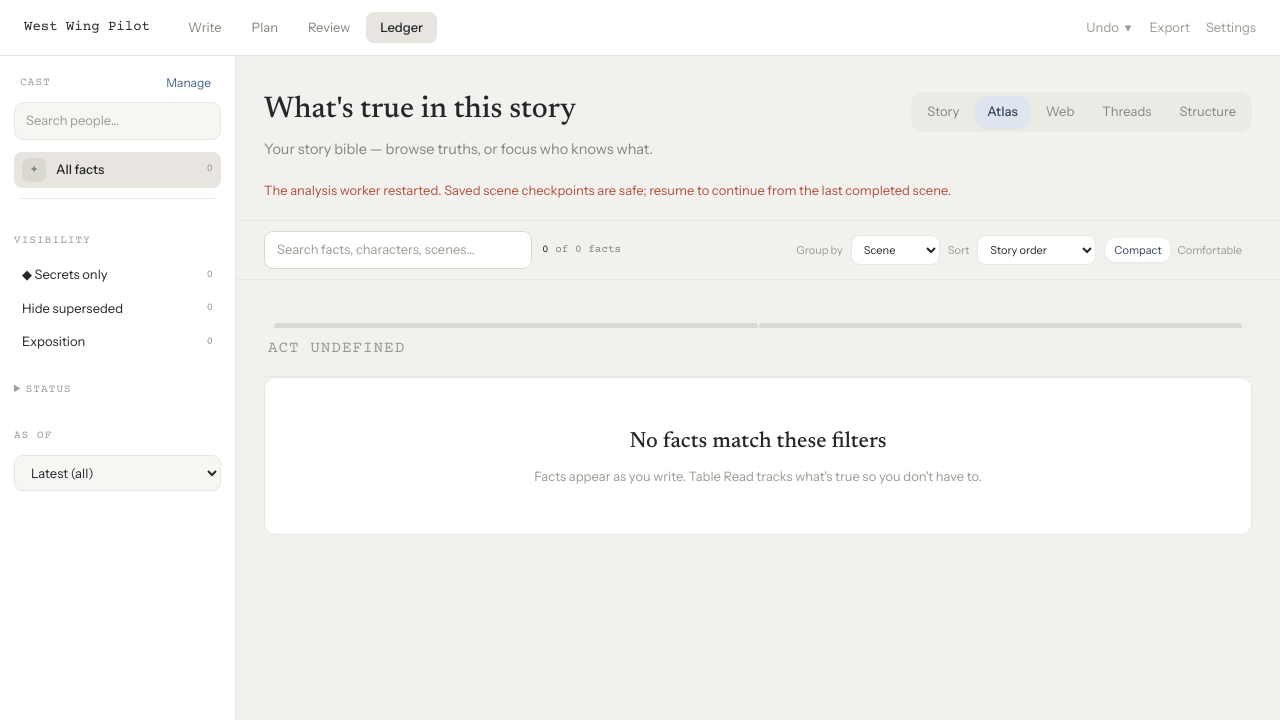
LedgerScreen Narrative Map recovery › restores an interrupted run and offers checkpoint-safe resume after refresh
Click the button "Story" at point(943, 112), box [915, 96, 971, 128]
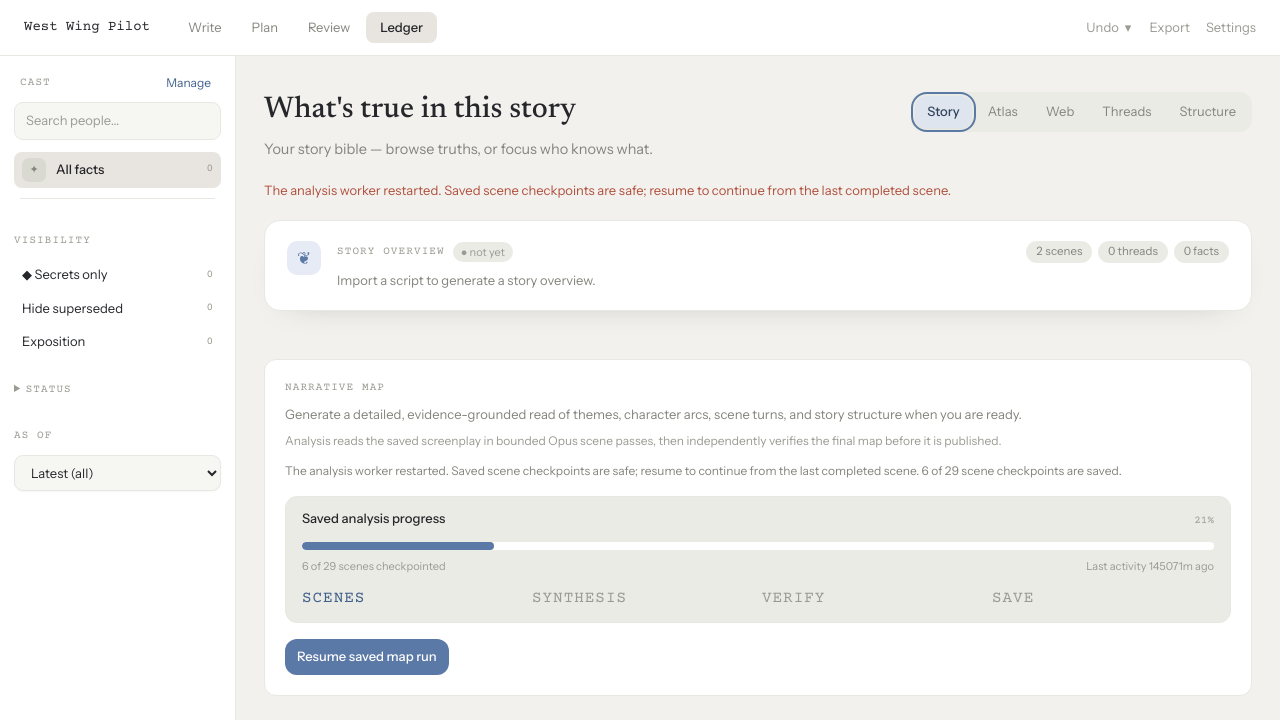
Expected: the button "Resume saved map run" is shown, [285, 639, 449, 674]
Expected: the text with test id "narrative-map-run-status" shows "6 of 29 scene checkpoints are saved", [285, 463, 1122, 478]
